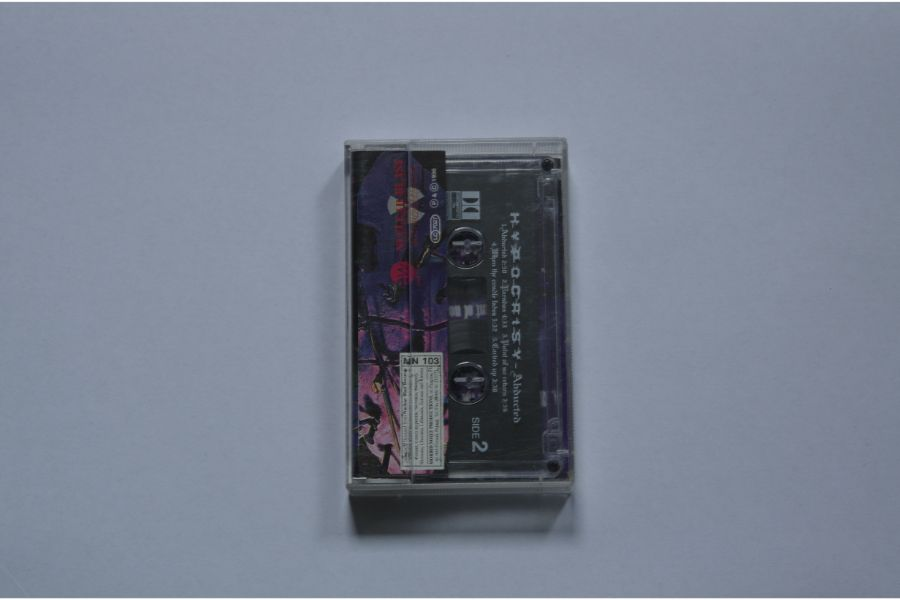album: (340, 135, 580, 501)
